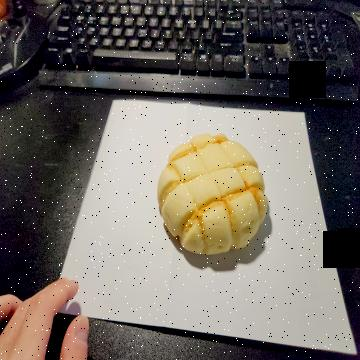melon_bread: (157, 133, 269, 255)
